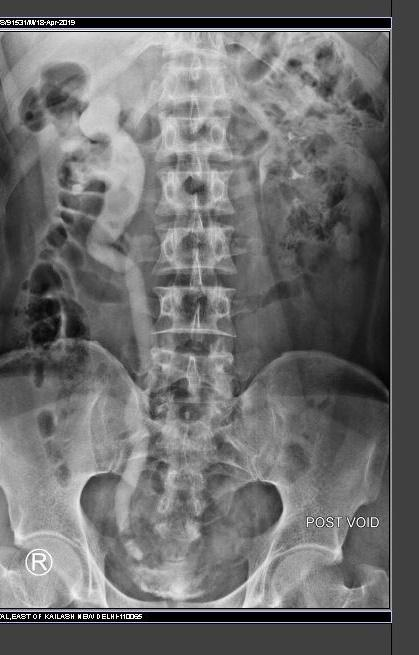vertebrae: (154, 109, 234, 163)
